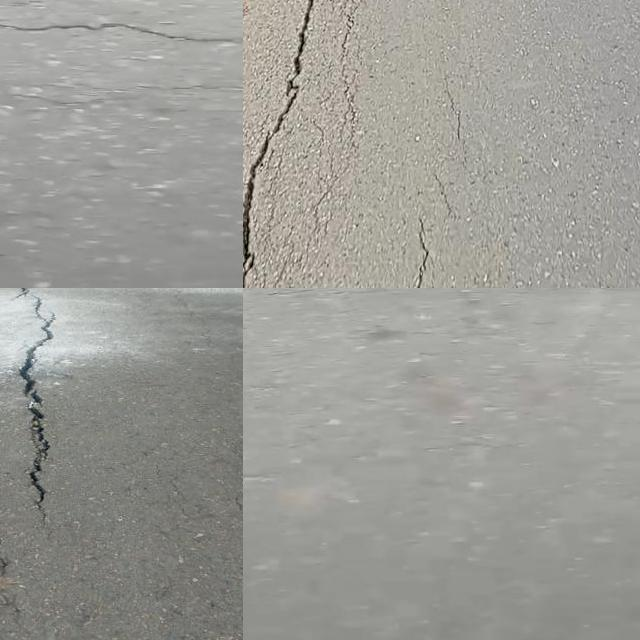Melintang: (0, 10, 243, 63)
Memanjang: (243, 0, 327, 288), (12, 288, 68, 535)
